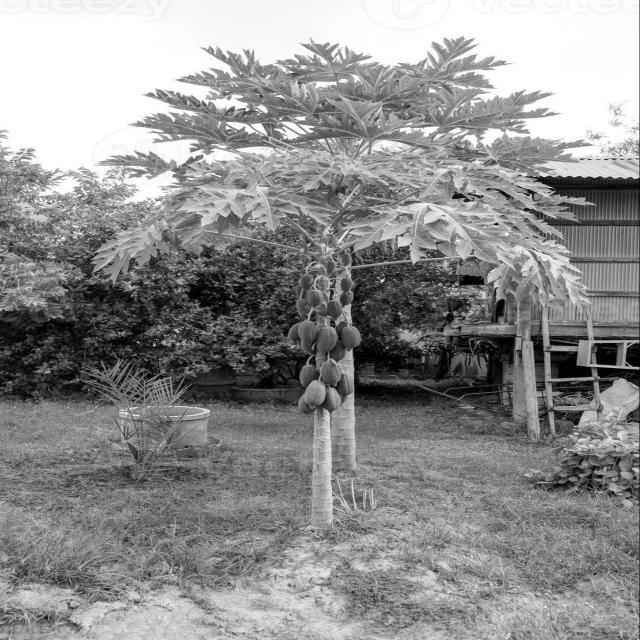Papaya-Tree: (125, 135, 535, 521)
